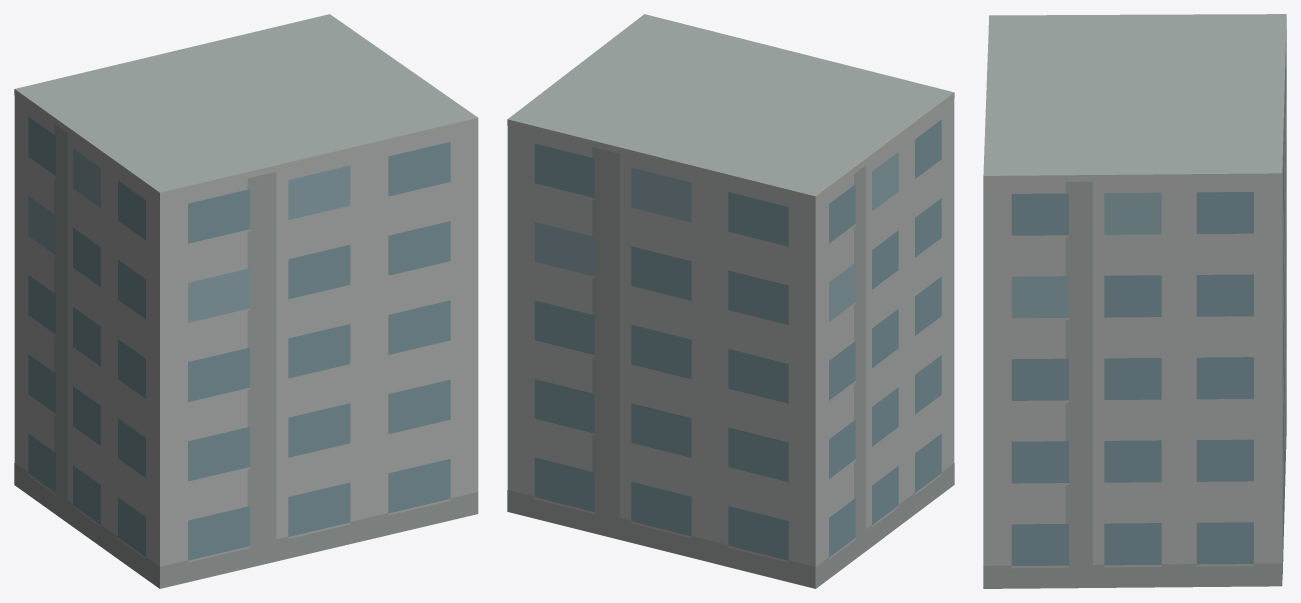
The model's file is survey-upis-32719867.glb.
3 views of the same model, side by side, from view 1: azimuth 30°, elevation 25°; view 2: azimuth 150°, elevation 25°; view 3: azimuth 270°, elevation 25° (orthographic). The views are drawn at different scales.
Parts seen in each view (by area): view 1: survey-upis-32719867.tmp; view 2: survey-upis-32719867.tmp; view 3: survey-upis-32719867.tmp.
Boxes of the visible parts, <box> form: survey-upis-32719867.tmp: <box>14,14,478,588</box>; survey-upis-32719867.tmp: <box>507,14,954,588</box>; survey-upis-32719867.tmp: <box>983,14,1286,588</box>.
Size of the model in its own units: 12.58 by 14.95 by 9.96.
